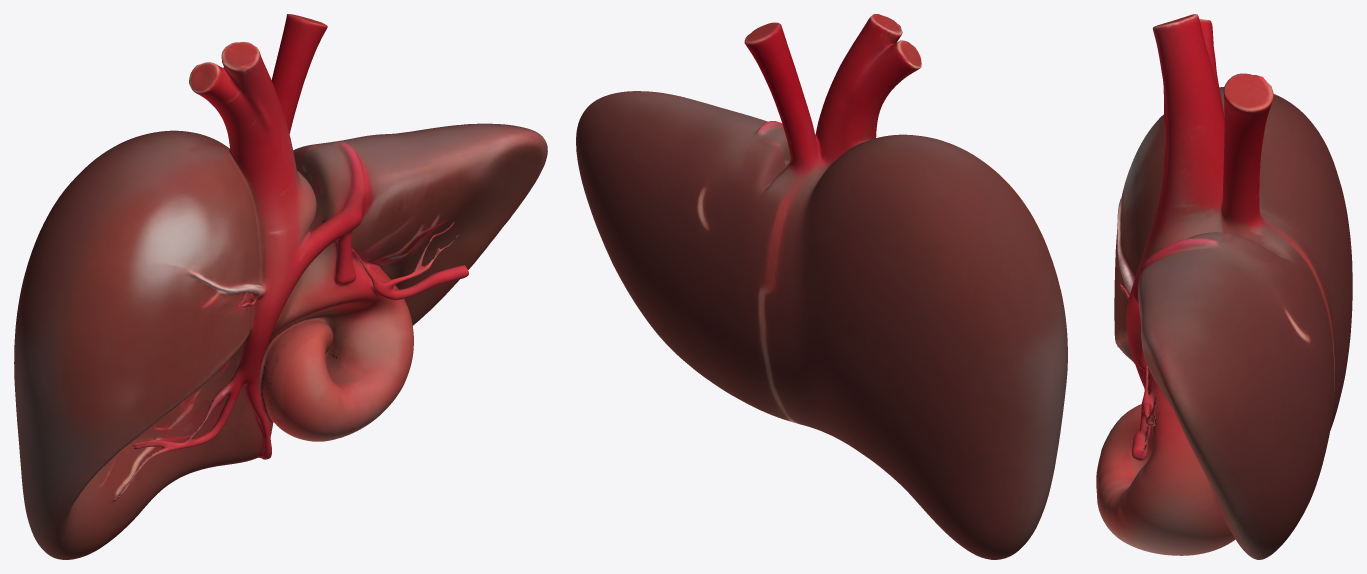
The model's file is vet_v2_organ_dog_liver.glb.
3 views of the same model, side by side, from view 1: azimuth 30°, elevation 25°; view 2: azimuth 150°, elevation 25°; view 3: azimuth 270°, elevation 25° (orthographic). The views are drawn at different scales.
Visible parts, largest first — view 1: model; view 2: model; view 3: model.
Part boxes in pixels (x1=…): model: x1=14, y1=14, x2=547, y2=559; model: x1=576, y1=14, x2=1067, y2=559; model: x1=1096, y1=14, x2=1352, y2=559.
Bounding box in the file's own units: 1.9 × 1.79 × 0.6907.
1 material, 1 textured.
